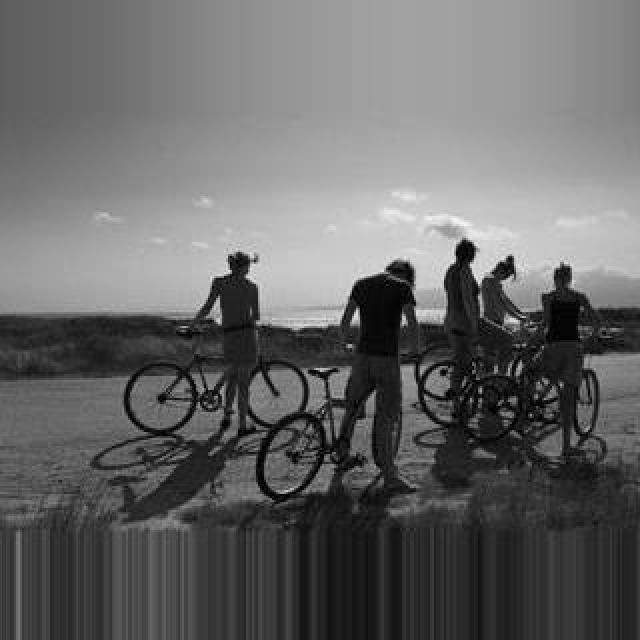MC-Bike: (332, 258, 424, 492), (186, 250, 264, 436), (538, 262, 602, 434), (442, 240, 482, 392), (478, 256, 532, 350)
Person: (254, 364, 422, 502), (123, 326, 299, 438), (457, 326, 603, 450), (416, 325, 520, 431)
